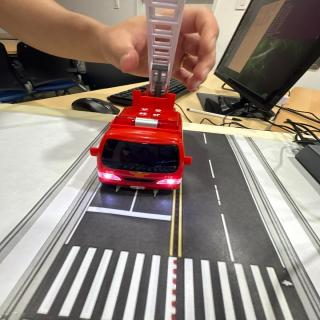Fire_truck: (90, 90, 192, 191)
